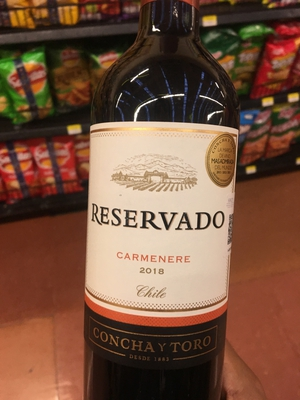reservado carmenere: (76, 12, 241, 400)
